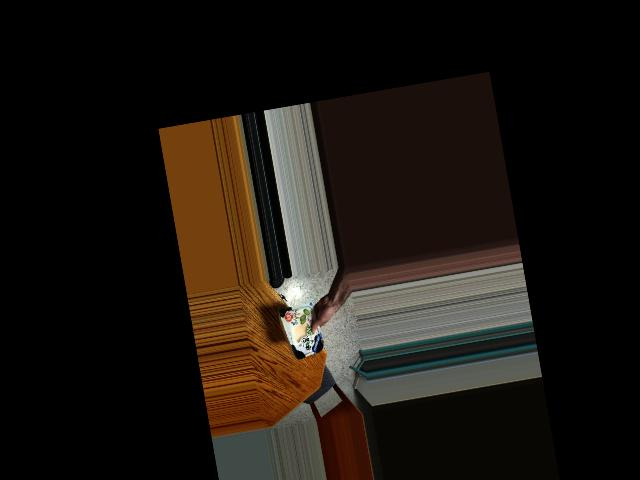cheese: (282, 308, 326, 362)
